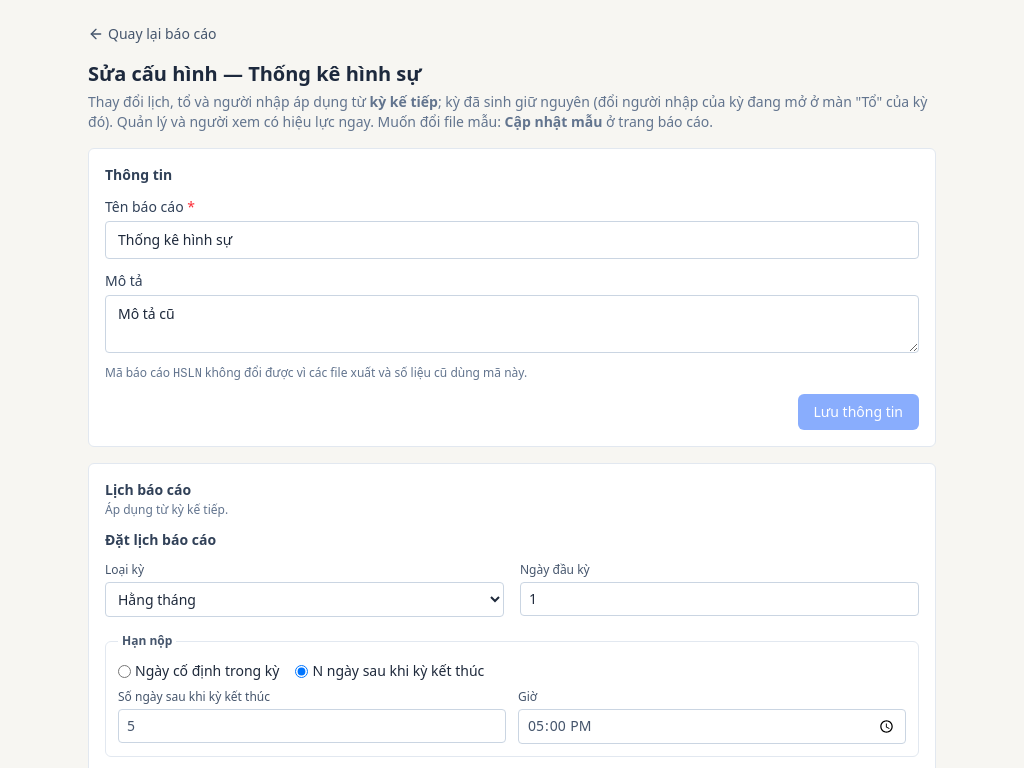
Scenario: ReportEditPage — "Sửa cấu hình" › the info Save is disabled until something changes, then sends only the name and description with the revision it saw
Expected: the button with test id "btn-save-info" is disabled, x1=798 y1=394 x2=919 y2=430
Replace the text in the field with test id "edit-name" with "Tên mới" at (512, 240), box x1=105 y1=221 x2=919 y2=259
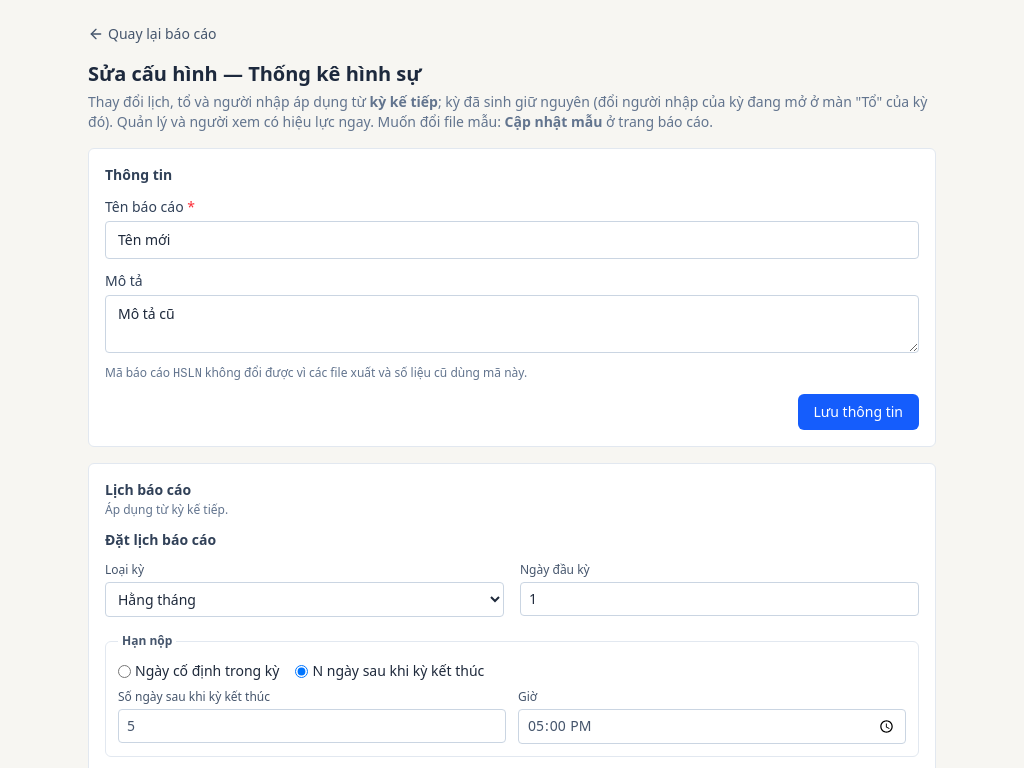
Now the button with test id "btn-save-info" is enabled
Click the button with test id "btn-save-info" at (858, 412), box x1=798 y1=394 x2=919 y2=430
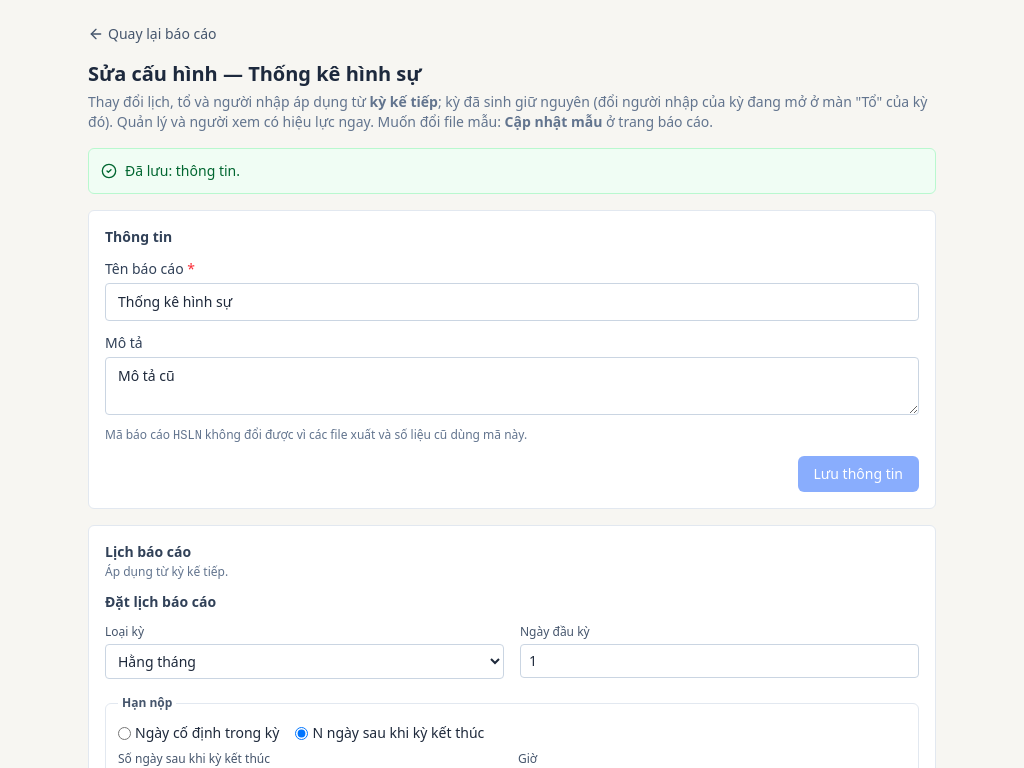
Now the element with test id "edit-saved" shows "thông tin", box x1=125 y1=161 x2=240 y2=180
